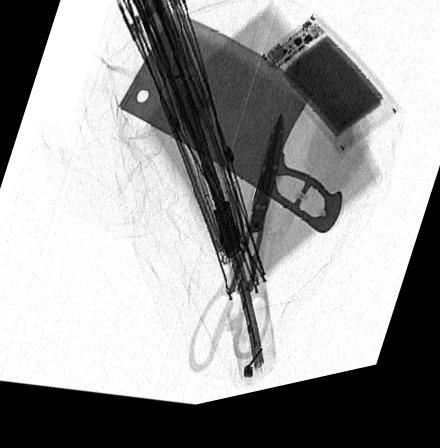Knife: (117, 15, 343, 247)
Powerbank: (258, 24, 403, 176)
Scissors: (185, 122, 284, 383)
